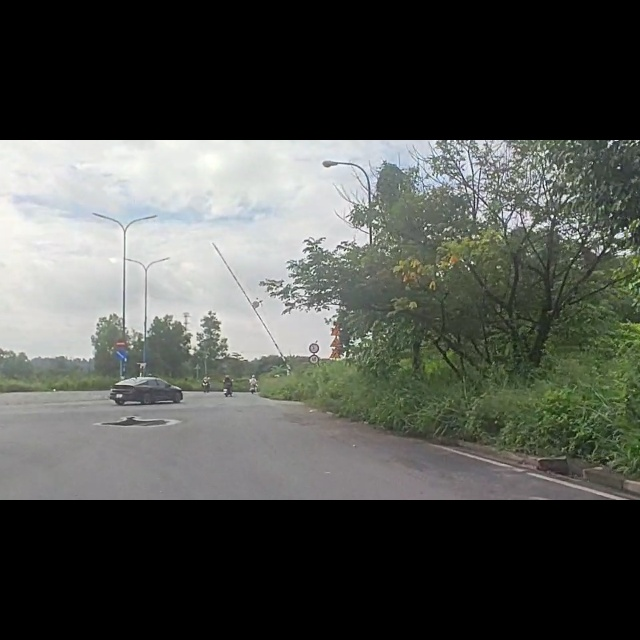bien_chi_dan: (115, 367, 131, 392), (116, 353, 129, 371), (331, 370, 342, 390), (309, 380, 320, 398)
